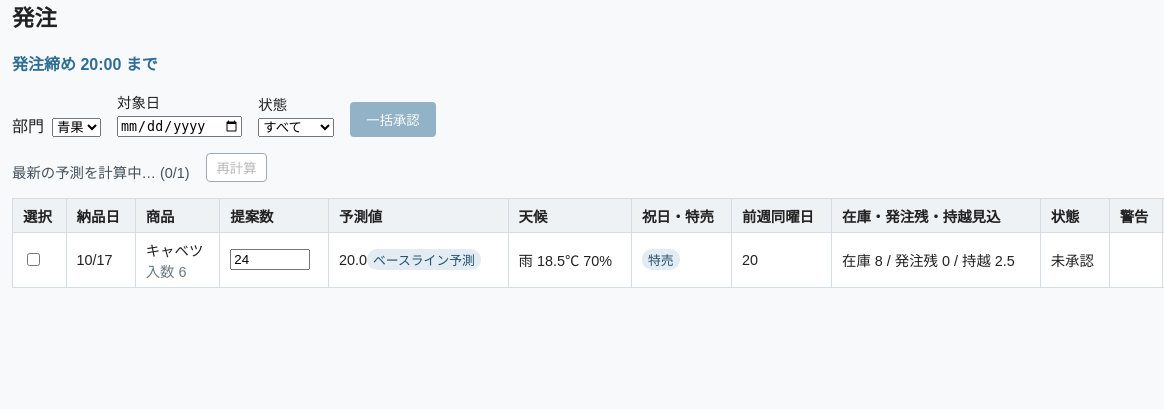
Scenario: applying keeps the input of rows whose quantity did not change
Expected: the heading "発注" is shown, [12,6,57,31]
Clear the number field named "キャベツ の提案数" at (270, 260), box [230,249,310,270]
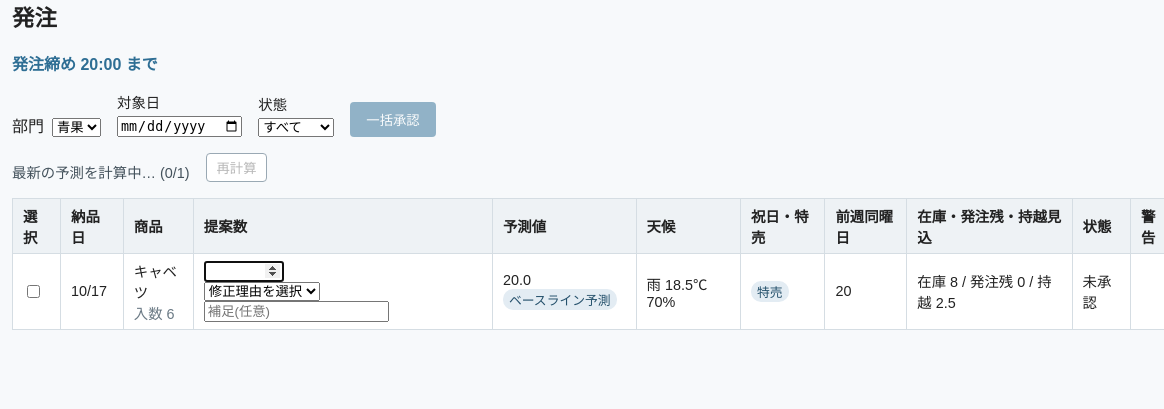
Type "20" into the number field named "キャベツ の提案数".
click(244, 271); type("20")  # box [204,261,284,282]
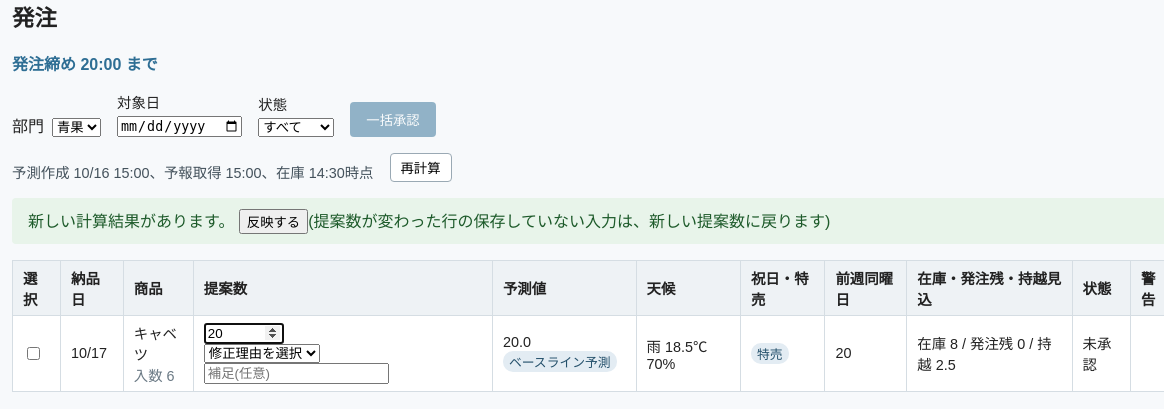
Now the text "新しい計算結果があります。" is shown, box [28,213,234,230]
Click the button "反映する".
click(274, 221)  # box [239,209,308,234]
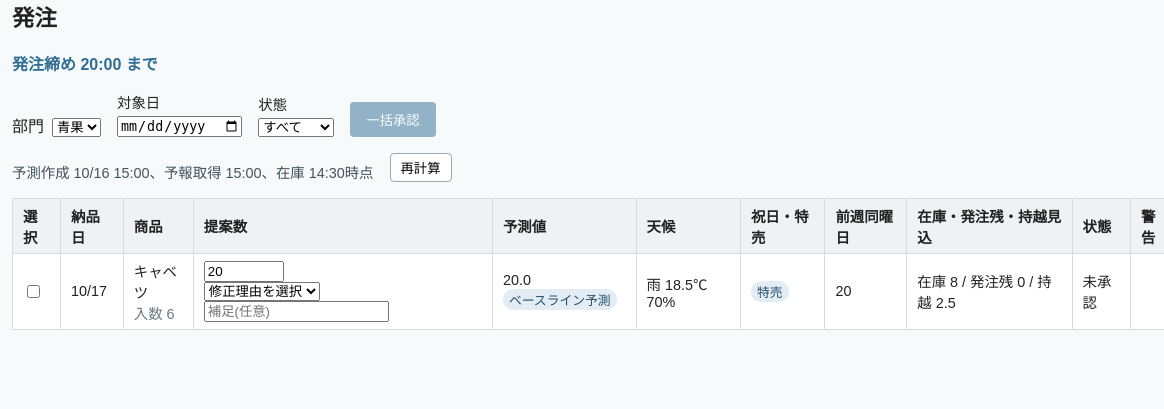
Now the text "新しい計算結果があります。" is gone
